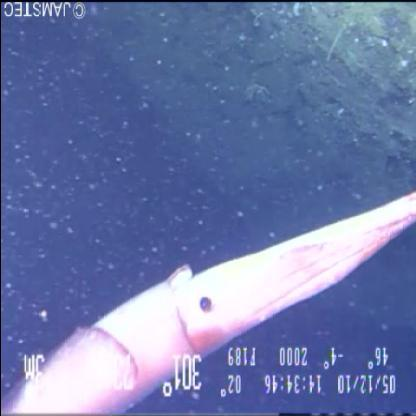Bio: (1, 187, 415, 415)
